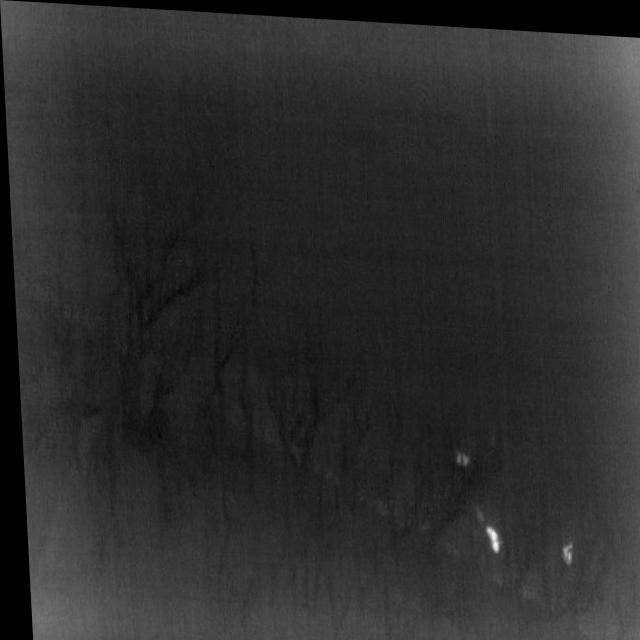deer: (480, 519, 496, 547), (554, 535, 567, 560)
